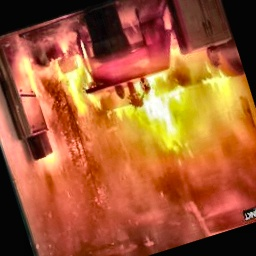fire: (62, 33, 256, 208)
